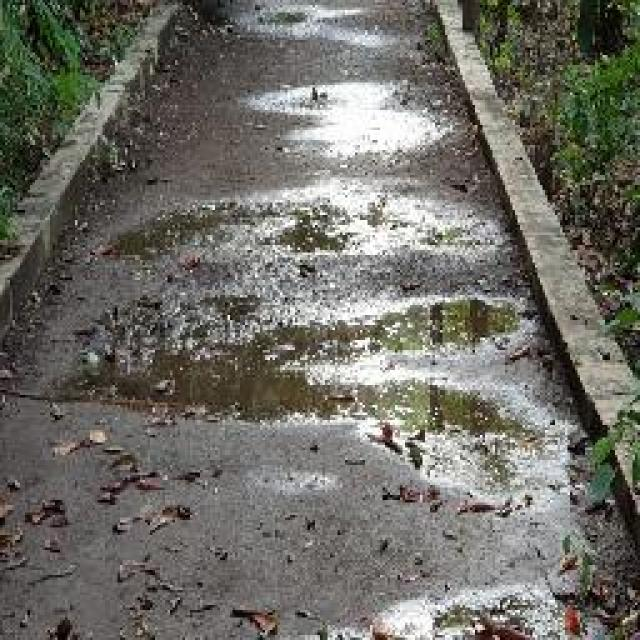puddle: (108, 299, 536, 496), (111, 193, 492, 264)
